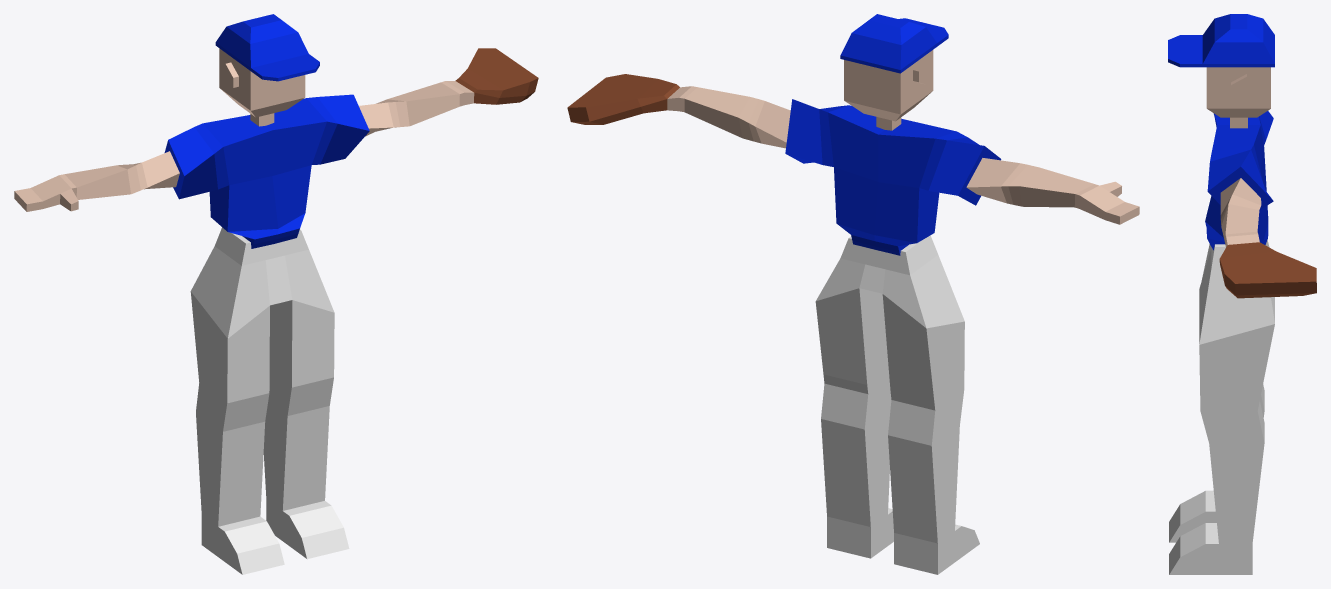
The model's file is grove_Lowfbx.fbx.
The picture shows the model from 3 angles, left to right: view 1: azimuth 30°, elevation 25°; view 2: azimuth 150°, elevation 25°; view 3: azimuth 270°, elevation 25°; orthographic projection. The views are drawn at different scales.
Parts seen in each view (by area): view 1: body1, body2_2, head; view 2: body1, body2_2, head; view 3: body1, body2_2, head.
Boxes of the visible parts, x1=… form: body1: x1=190, y1=227, x2=349, y2=574; body2_2: x1=14, y1=48, x2=538, y2=248; head: x1=215, y1=14, x2=319, y2=126; body1: x1=815, y1=235, x2=979, y2=574; body2_2: x1=567, y1=74, x2=1139, y2=255; head: x1=840, y1=14, x2=948, y2=130; body1: x1=1169, y1=240, x2=1274, y2=574; body2_2: x1=1205, y1=111, x2=1316, y2=298; head: x1=1168, y1=14, x2=1274, y2=128.
Bounding box in the file's own units: 1880 × 1806 × 463.
